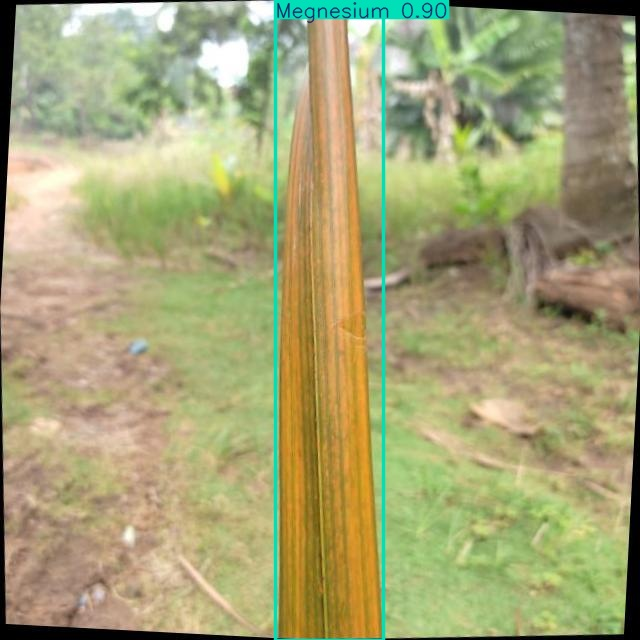Megnesium: (276, 0, 384, 640)
